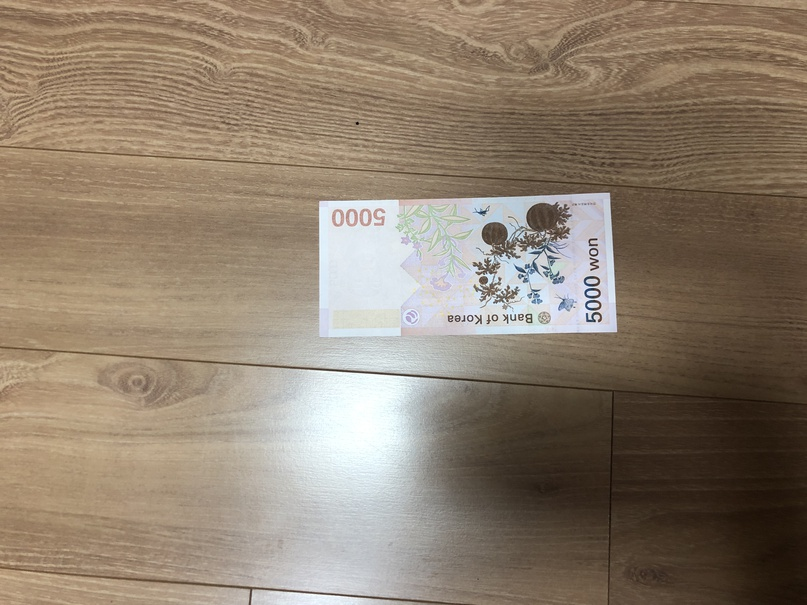5000won: (319, 192, 618, 339)
